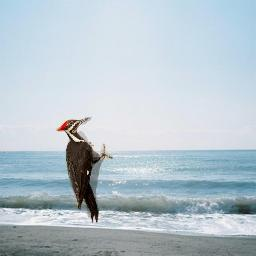Woodpecker: (56, 117, 113, 224)
